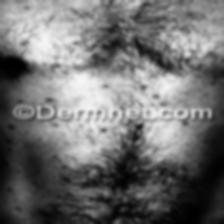Non-Cancerous Skin Condition: (0, 26, 103, 72), (139, 82, 147, 88), (47, 96, 54, 102)
